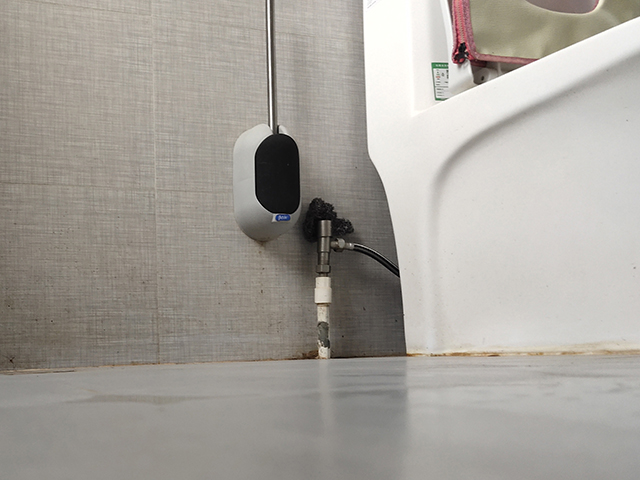closestool: (359, 1, 640, 358)
